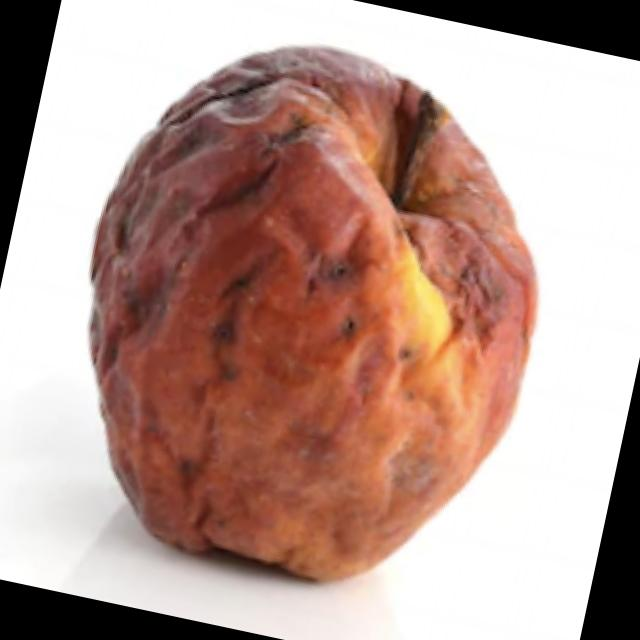rotten_apple: (28, 5, 584, 620)
